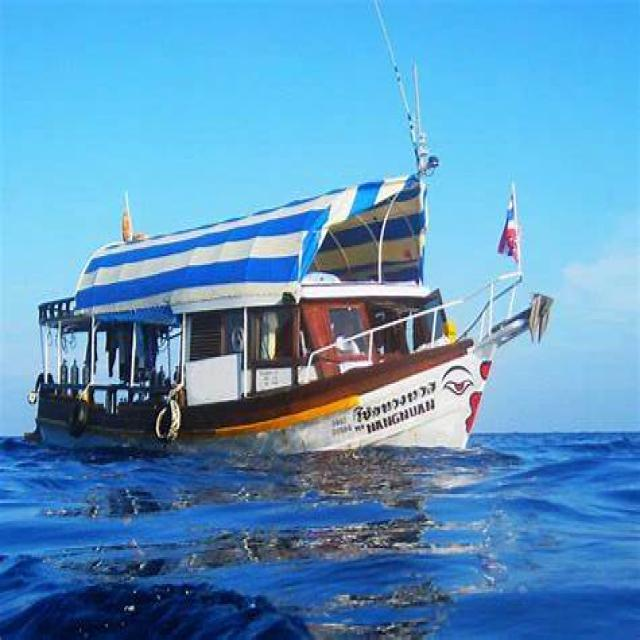Fishing Boat: (10, 130, 640, 497)
